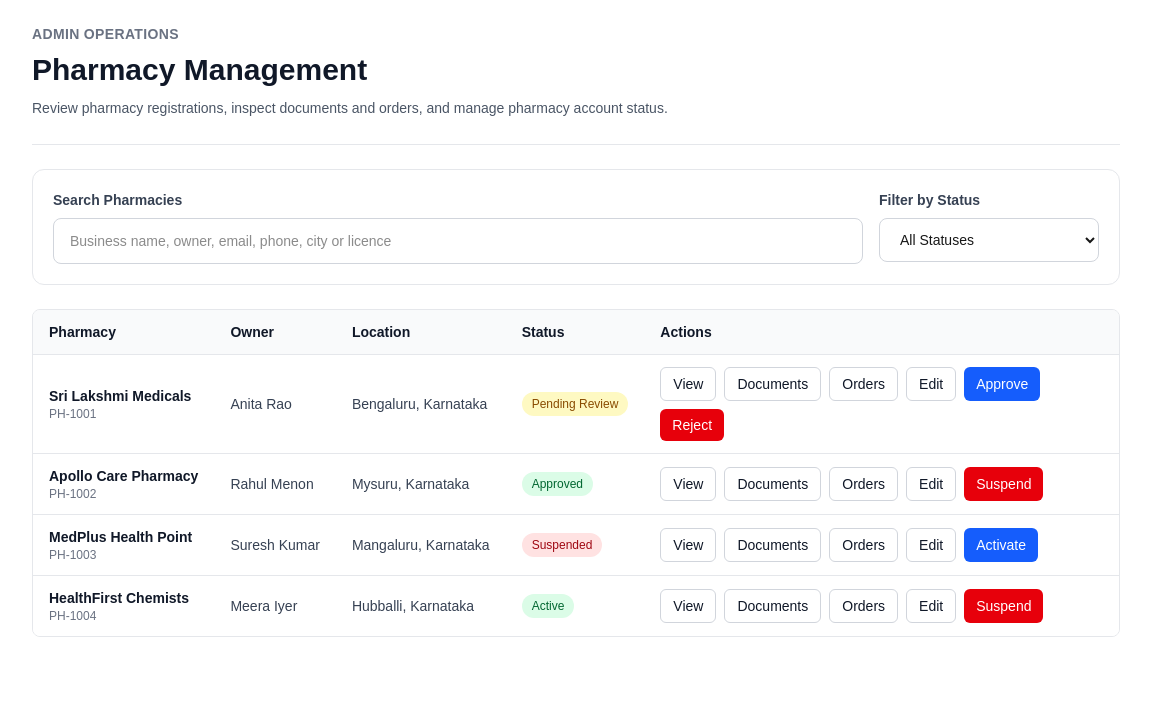
Scenario: Pharmacy Management integration › opens registration review details
What coordinates should you click on to do the following:
click the button "View" in the row of "Sri Lakshmi Medicals"
I would click on:
 (688, 384)
Its box is [660, 367, 716, 401].
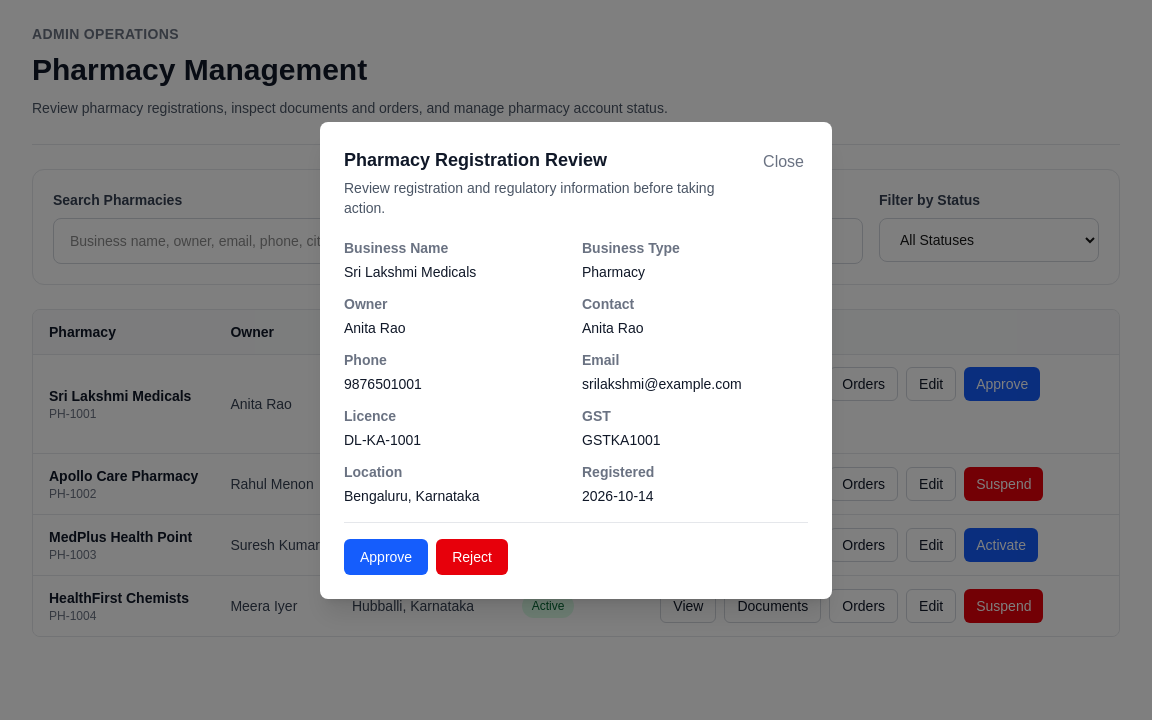
Result: the heading "Pharmacy Registration Review" is shown at [344, 150, 607, 170]
Result: the text "DL-KA-1001" is shown at [344, 432, 421, 448]
Result: the text "GSTKA1001" is shown at [582, 432, 661, 448]
